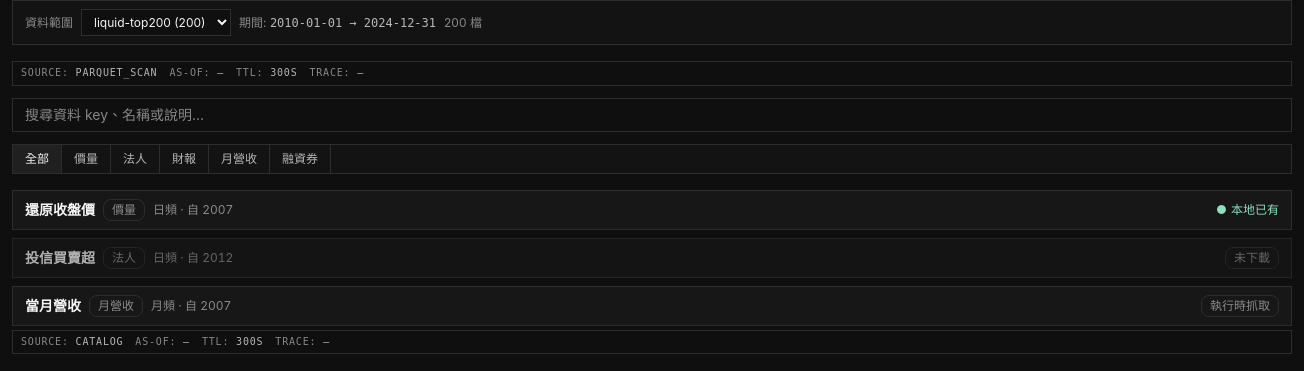
Test: DatasetCatalog › empty search result → explicit no-match state (not blank)
The width and height of the screenshot is (1304, 371).
Check: the text "還原收盤價" is shown, box [25, 200, 95, 220]
In the field labelled "搜尋資料 key、名稱或說明…": (652, 114) [12, 98, 1292, 132], type "zzz-nope"
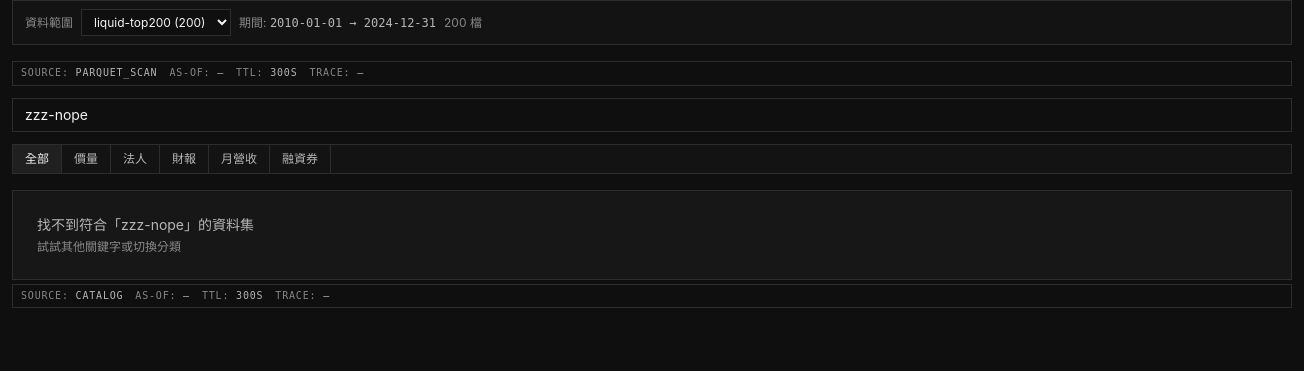
Check: the text "找不到符合「zzz-nope」的資料集" is shown, box [37, 216, 254, 232]
Check: the heading "還原收盤價" is gone
